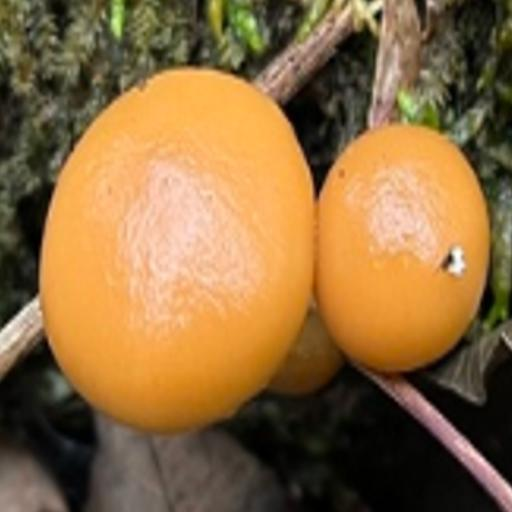mushroom: (27, 51, 493, 434)
